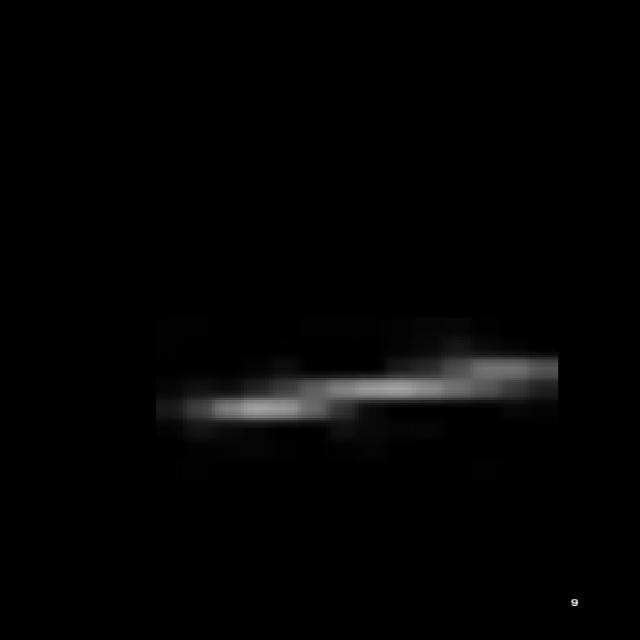1 -one-: (178, 346, 570, 439)
